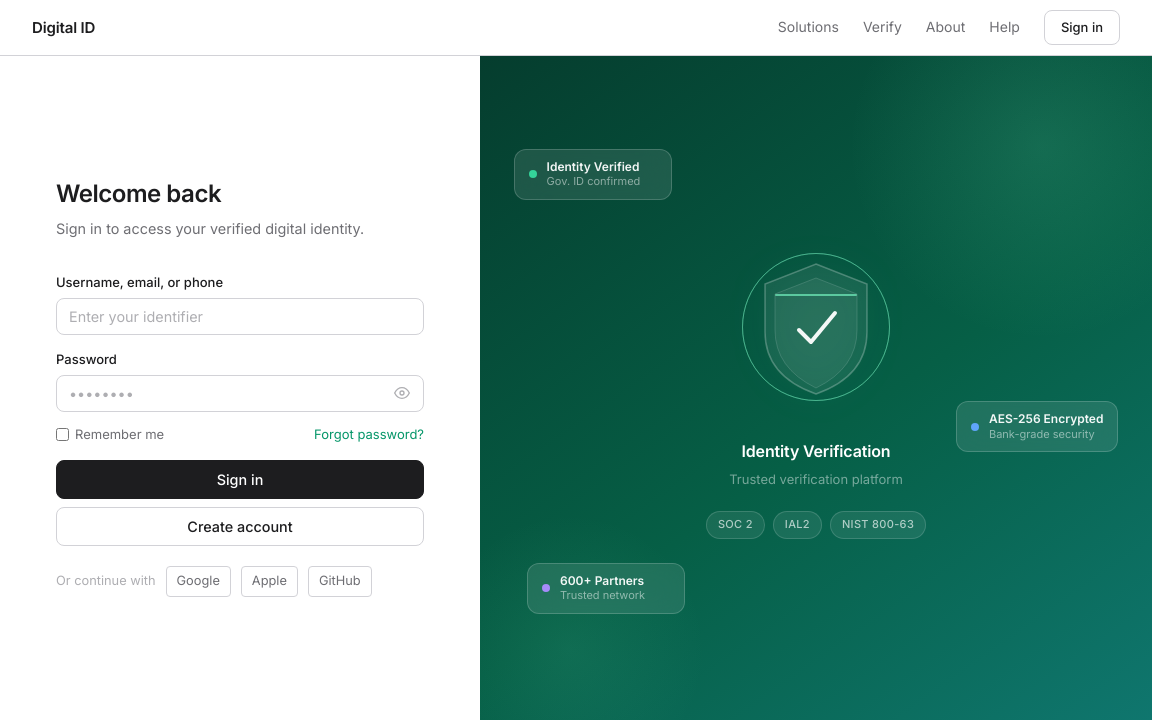
AuthScreen › Login mode › displays error on failed login
The image size is (1152, 720).
Type "bad" into the field labelled "Username, email, or phone". click: (240, 316)
box: x1=56 y1=298 x2=424 y2=335
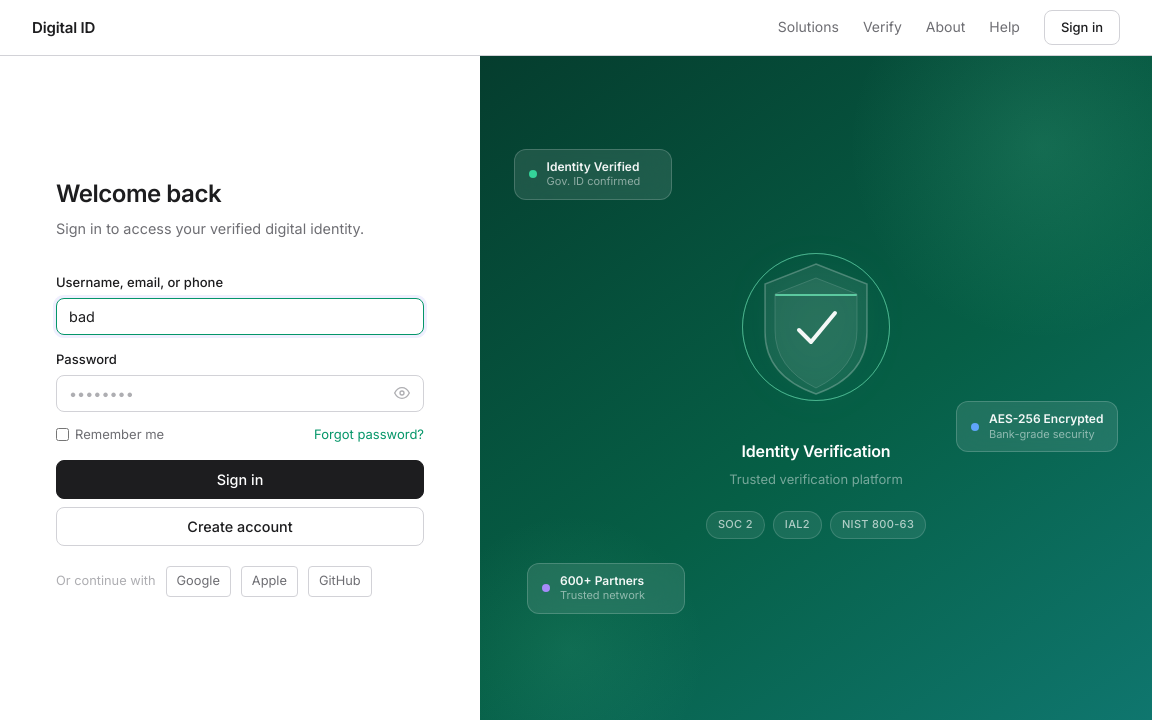
Type "wrong" into the password field labelled "Password". click: (240, 393)
box: x1=56 y1=375 x2=424 y2=412
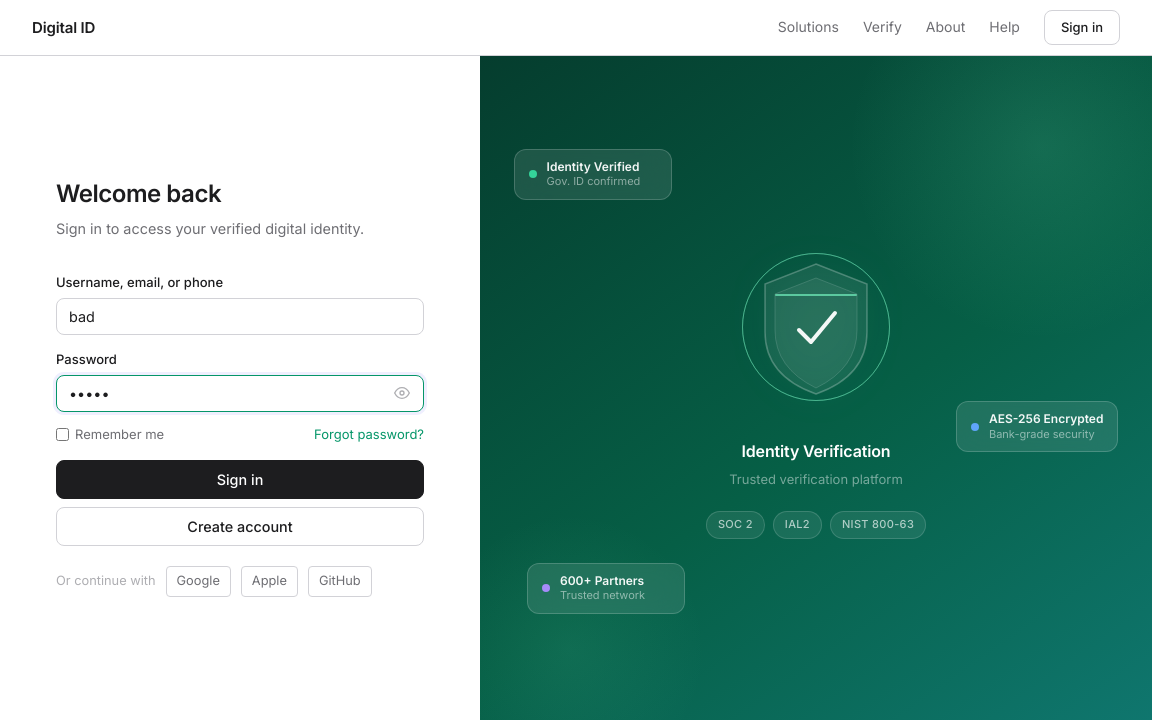
Click the button "Sign in". click: (240, 480)
box: x1=56 y1=460 x2=424 y2=500
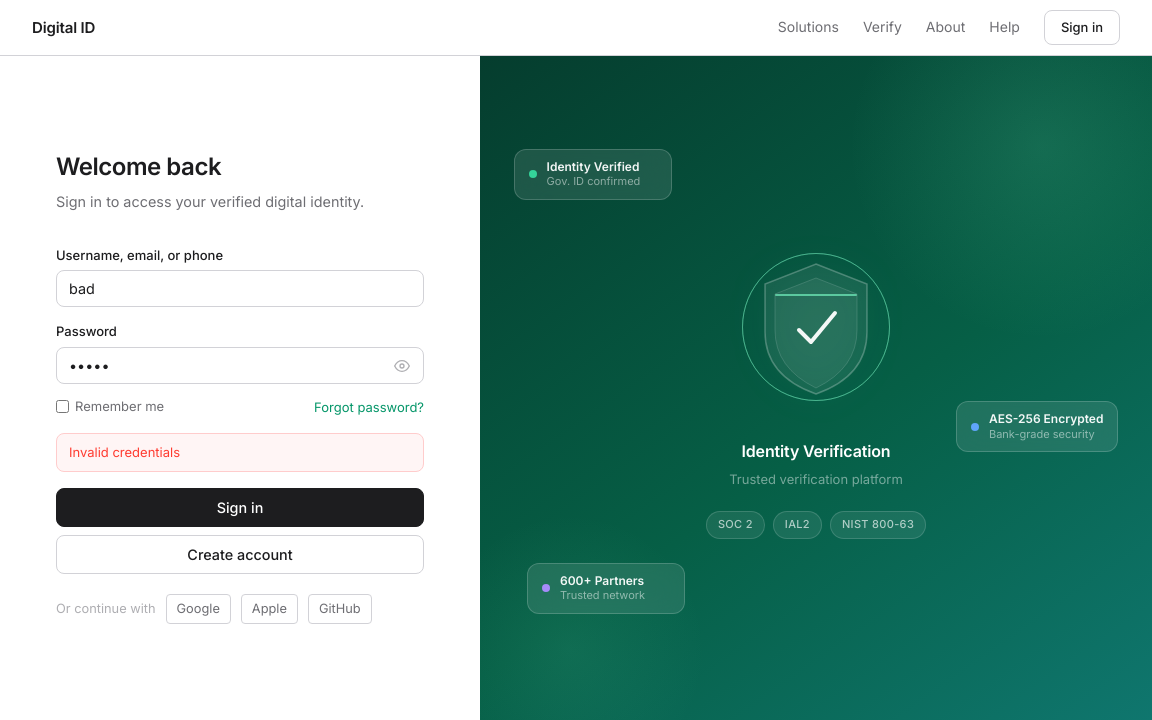
expect the text "Invalid credentials" is shown: met, box x1=56 y1=433 x2=424 y2=472
